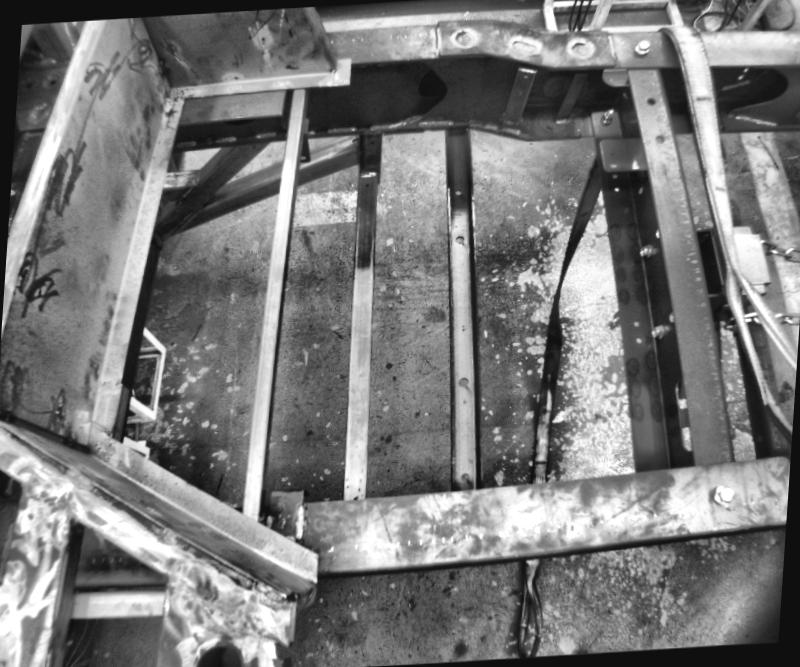bolt: (710, 485, 736, 507), (630, 40, 651, 60), (599, 110, 614, 128), (650, 324, 666, 340), (639, 244, 653, 260)
bracket: (263, 479, 317, 535), (546, 71, 586, 132), (499, 65, 535, 132), (594, 138, 648, 177), (295, 119, 318, 169)
hole: (190, 640, 250, 666), (454, 376, 470, 390), (458, 471, 469, 484), (644, 96, 656, 106), (630, 320, 642, 328), (654, 135, 664, 144), (454, 235, 464, 243), (453, 186, 461, 195), (634, 336, 641, 344), (363, 181, 370, 188), (608, 152, 614, 160), (300, 159, 308, 164), (350, 138, 356, 142)
